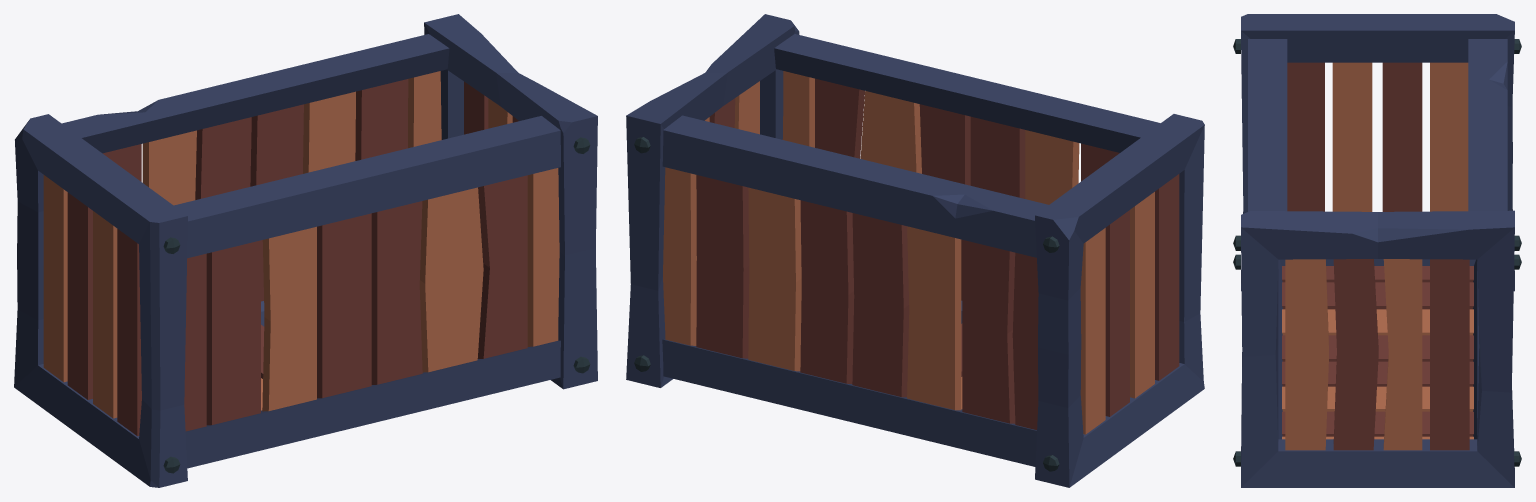
The model's file is Box Wood 04.fbx.
The picture shows the model from 3 angles, left to right: view 1: azimuth 30°, elevation 25°; view 2: azimuth 150°, elevation 25°; view 3: azimuth 270°, elevation 25°; orthographic projection.
Parts seen in each view (by area): view 1: Box Wood 04; view 2: Box Wood 04; view 3: Box Wood 04.
Boxes of the visible parts, x1,y1,x2,y2 form: Box Wood 04: (14, 14, 597, 487); Box Wood 04: (626, 14, 1204, 487); Box Wood 04: (1233, 14, 1521, 487).
Bounding box in the file's own units: 164 × 93.15 × 93.55.
